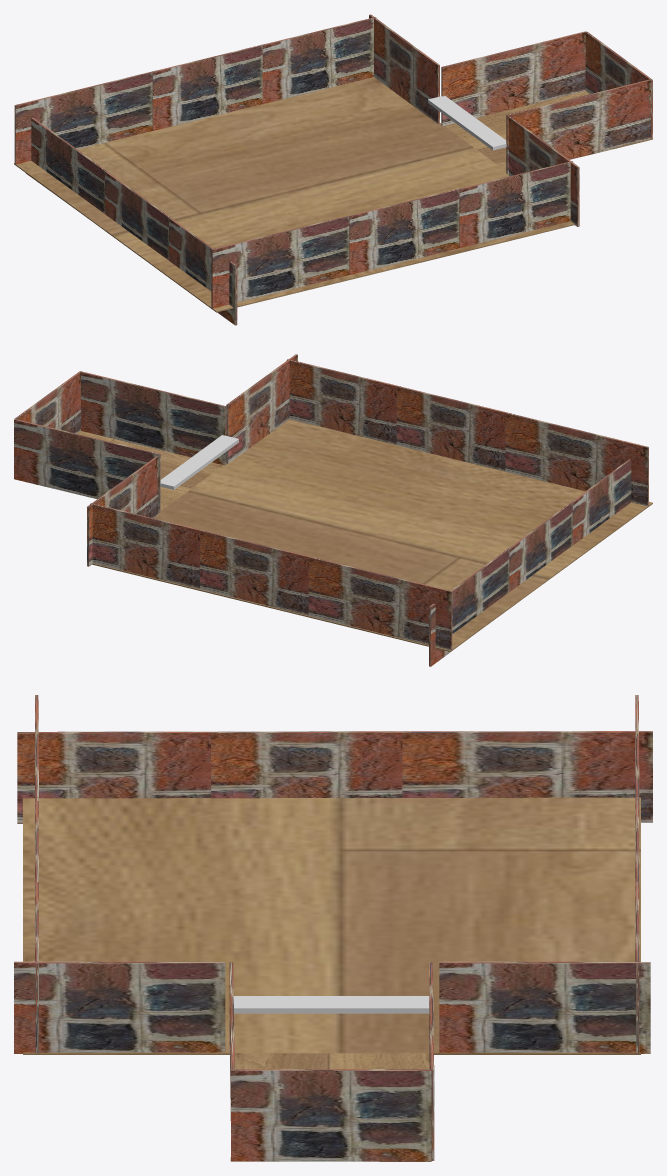
File: jedalen.glb
The picture shows the model from 3 angles, top to bottom: view 1: azimuth 30°, elevation 25°; view 2: azimuth 150°, elevation 25°; view 3: azimuth 270°, elevation 25°; orthographic projection. The views are drawn at different scales.
Visible parts, largest first — view 1: Cube, Cube.006, Cube.011, Cube.010, Cube.005, Cube.003, Cube.013, Cube.012, Cube.009, Cube.002, Cube.016, Cube.015 (+5 smaller); view 2: Cube, Cube.010, Cube.005, Cube.011, Cube.006, Cube.012, Cube.009, Cube.003, Cube.013, Cube.001, Cube.016, Cube.015 (+5 smaller); view 3: Cube, Cube.002, Cube.001, Cube.007, Cube.016, Cube.014, Cube.015, Cube.004, Cube.008, Cube.006, Cube.003, Cube.013.
Boxes of the visible parts, x1,y1,x2,y2 form: Cube: (14, 77, 574, 312); Cube.006: (441, 31, 586, 126); Cube.011: (211, 214, 354, 309); Cube.010: (14, 70, 156, 164); Cube.005: (506, 79, 650, 174); Cube.003: (262, 17, 376, 103); Cube.013: (459, 161, 573, 248); Cube.012: (349, 188, 462, 274); Cube.009: (152, 44, 265, 130); Cube.002: (369, 14, 439, 123); Cube.016: (26, 117, 109, 213); Cube.015: (105, 171, 172, 260); Cube: (92, 419, 652, 651); Cube.010: (308, 557, 452, 651); Cube.005: (80, 371, 226, 465); Cube.011: (505, 412, 648, 506); Cube.006: (14, 419, 160, 513); Cube.012: (396, 386, 511, 471); Cube.009: (200, 530, 314, 615); Cube.003: (90, 503, 204, 588); Cube.013: (286, 359, 400, 444); Cube.001: (226, 354, 297, 463); Cube.016: (429, 546, 511, 666); Cube.015: (509, 501, 572, 591); Cube: (23, 797, 640, 1054); Cube.002: (439, 961, 650, 1053); Cube.001: (14, 961, 225, 1053); Cube.007: (231, 1069, 431, 1161); Cube.016: (402, 731, 652, 822); Cube.014: (17, 731, 217, 823); Cube.015: (211, 731, 410, 798); Cube.004: (233, 996, 429, 1013); Cube.008: (230, 1052, 431, 1161); Cube.006: (429, 962, 434, 1160); Cube.003: (635, 879, 639, 1053); Cube.013: (35, 879, 38, 1053).
Bounding box in the file's own units: 60.07 × 8.57 × 43.16.
Materials: 16 (16 with a texture image).
